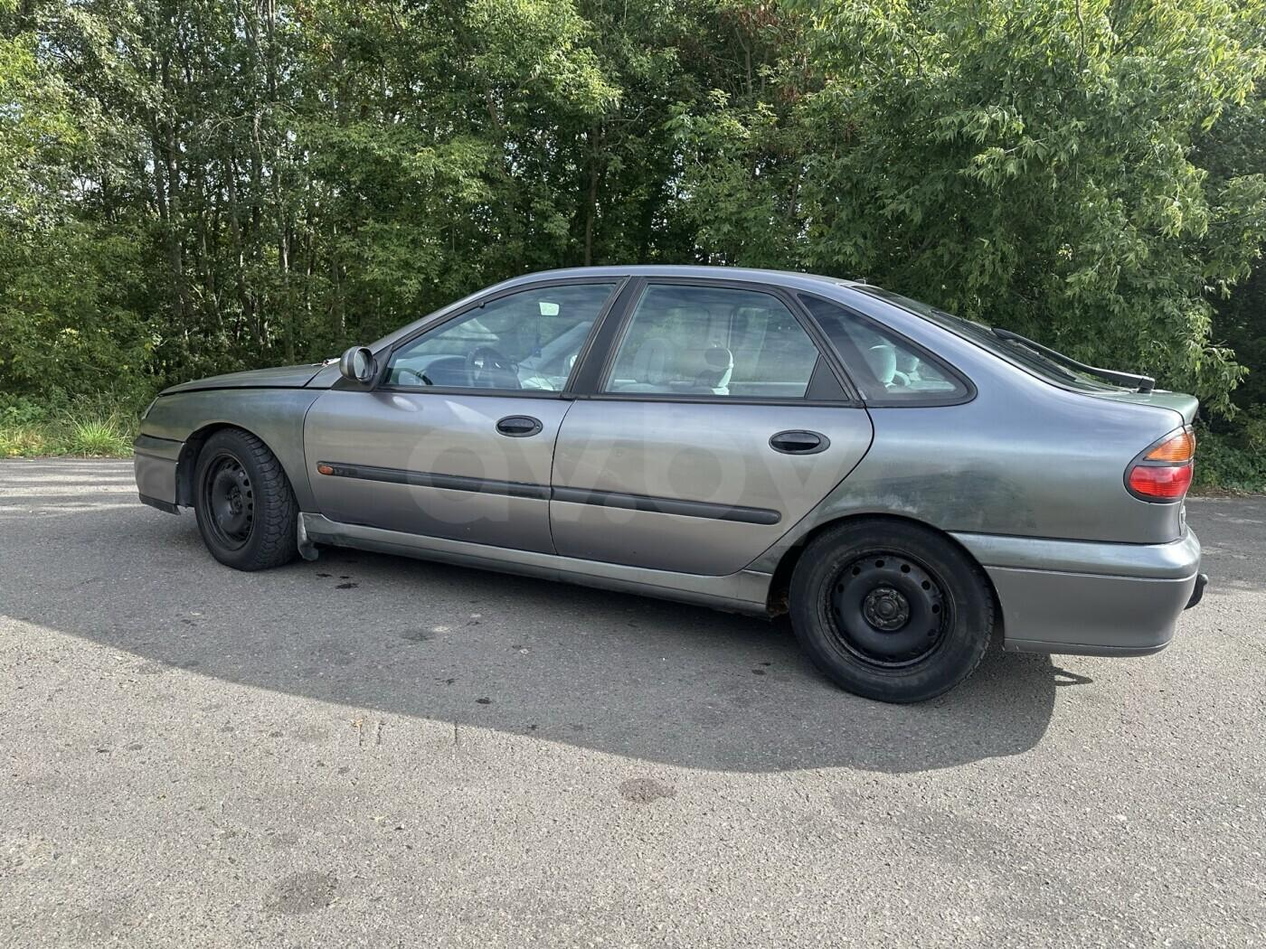Laguna_1998-2001: (133, 257, 1217, 708)
